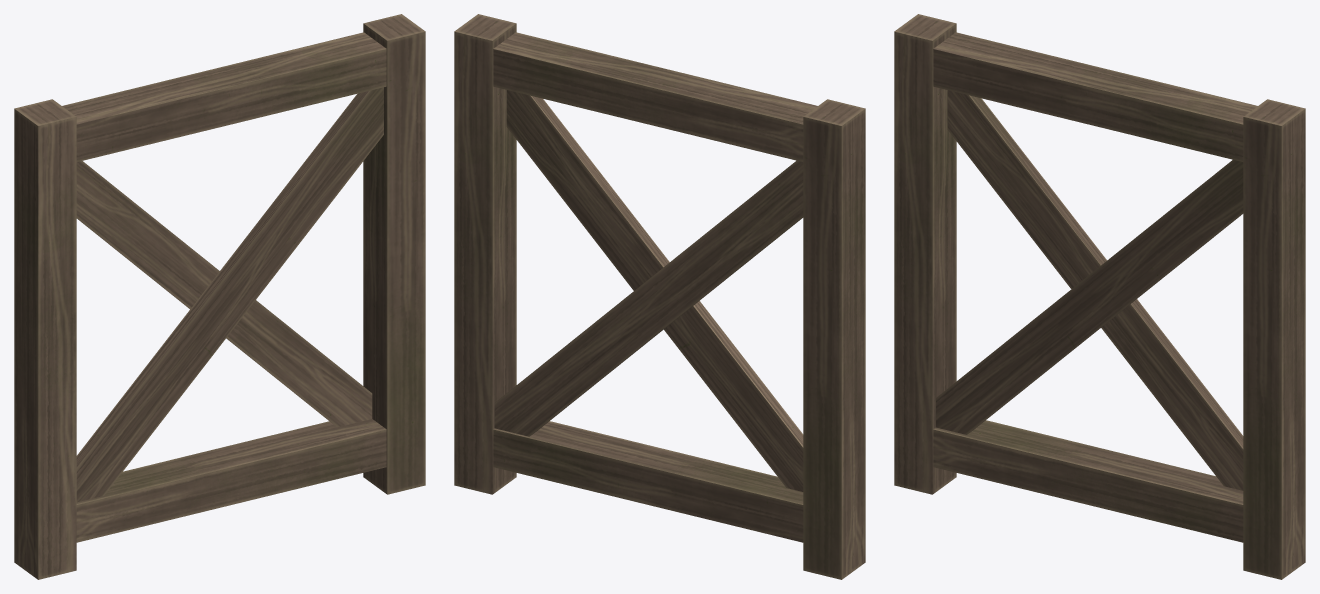
The model's file is SM_fence_wooden_02.fbx.
3 views of the same model, side by side, from view 1: azimuth 30°, elevation 25°; view 2: azimuth 150°, elevation 25°; view 3: azimuth 330°, elevation 25° (orthographic).
Parts seen in each view (by area): view 1: Object031; view 2: Object031; view 3: Object031.
Boxes of the visible parts, x1,y1,x2,y2 form: Object031: (14, 14, 425, 579); Object031: (454, 14, 865, 579); Object031: (894, 14, 1305, 579).
Size of the model in its own units: 33.95 by 37.99 by 3.65.
